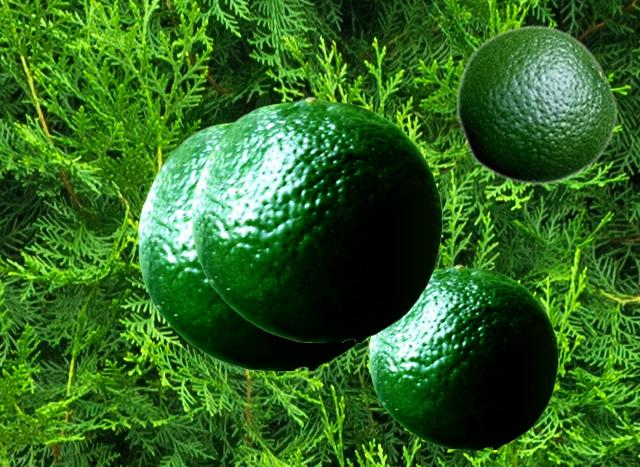calamansi: (192, 96, 441, 341), (138, 119, 362, 369), (369, 264, 557, 448), (455, 24, 617, 185)
